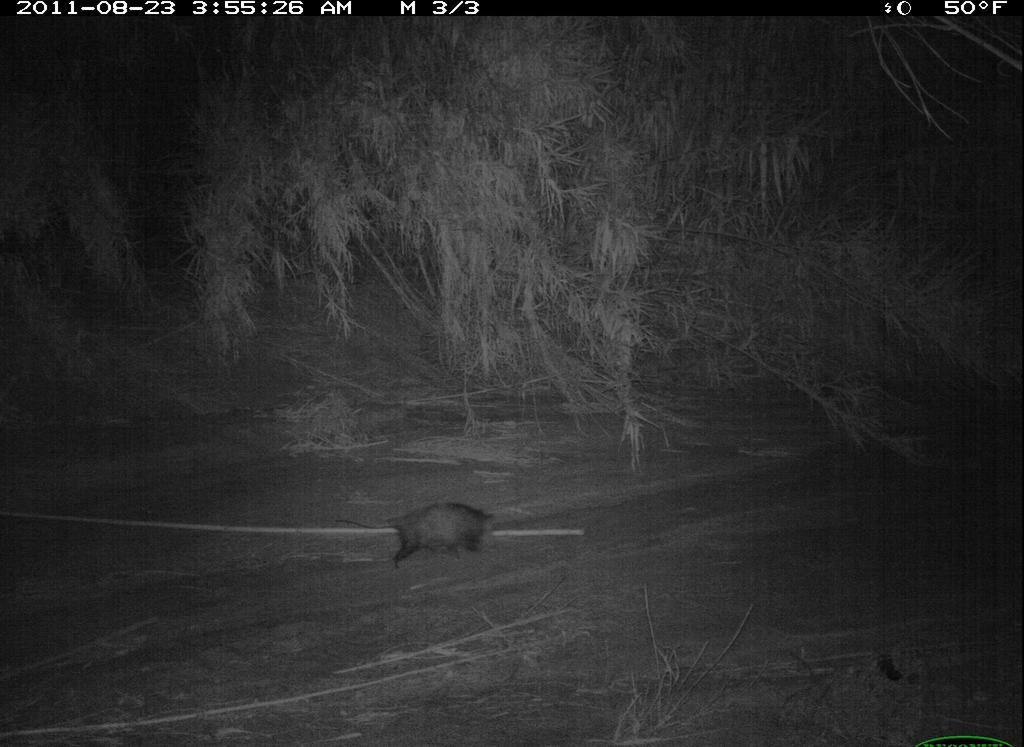opossum: (331, 492, 511, 585)
